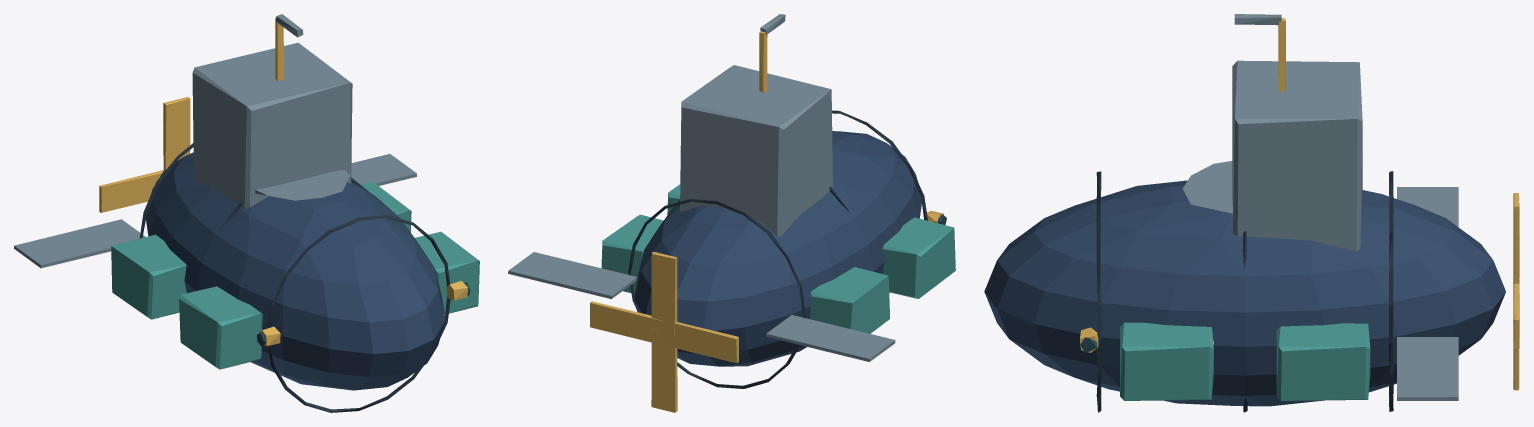
File: submarines-cargo-sub.lod1.glb
3 renders of one model, left to right at view 1: azimuth 30°, elevation 25°; view 2: azimuth 150°, elevation 25°; view 3: azimuth 270°, elevation 25°, orthographic. The views are drawn at different scales.
Parts seen in each view (by area): view 1: submarines-cargo-sub__body, submarines-cargo-sub__propeller, submarines-cargo-sub__hatch; view 2: submarines-cargo-sub__body, submarines-cargo-sub__propeller; view 3: submarines-cargo-sub__body, submarines-cargo-sub__hatch, submarines-cargo-sub__propeller.
Boxes of the visible parts, <box> form: submarines-cargo-sub__body: <box>14,14,479,412</box>; submarines-cargo-sub__propeller: <box>99,97,190,212</box>; submarines-cargo-sub__hatch: <box>255,169,349,200</box>; submarines-cargo-sub__body: <box>508,14,955,388</box>; submarines-cargo-sub__propeller: <box>590,251,738,412</box>; submarines-cargo-sub__body: <box>984,14,1505,412</box>; submarines-cargo-sub__hatch: <box>1182,161,1232,213</box>; submarines-cargo-sub__propeller: <box>1513,193,1519,390</box>.
Bounding box in the file's own units: 9.53 × 8.18 × 10.26.
